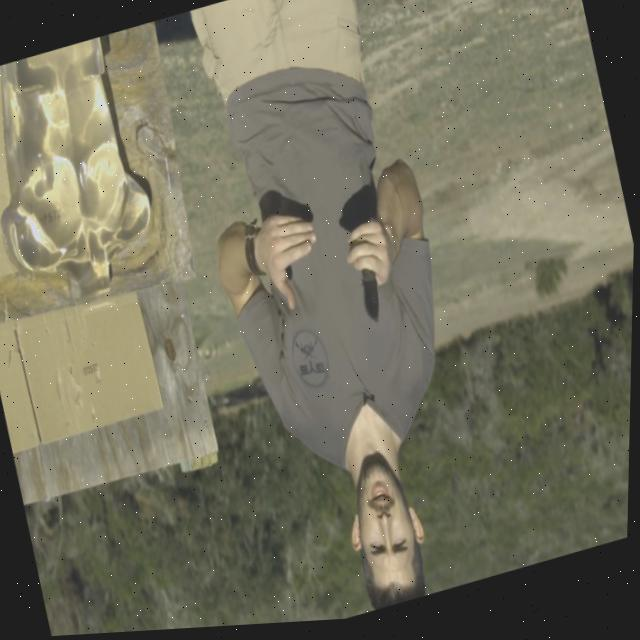knife: (356, 269, 388, 331)
